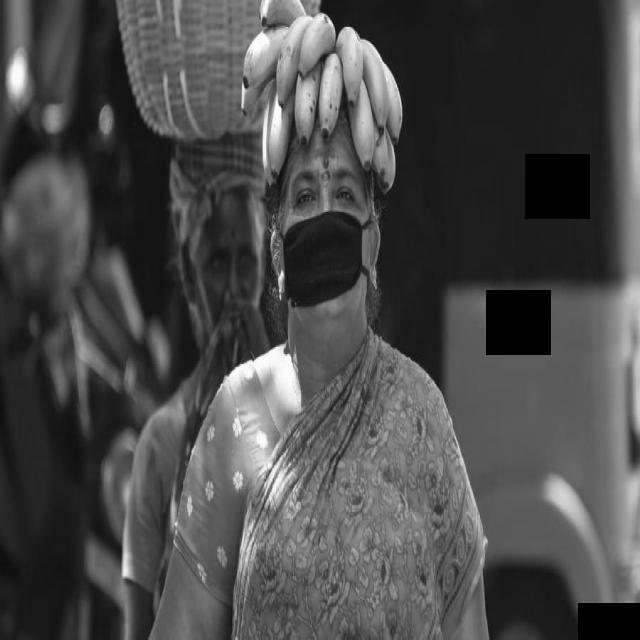hairnet: (281, 201, 381, 324)
no_hairnet: (176, 283, 269, 356)
